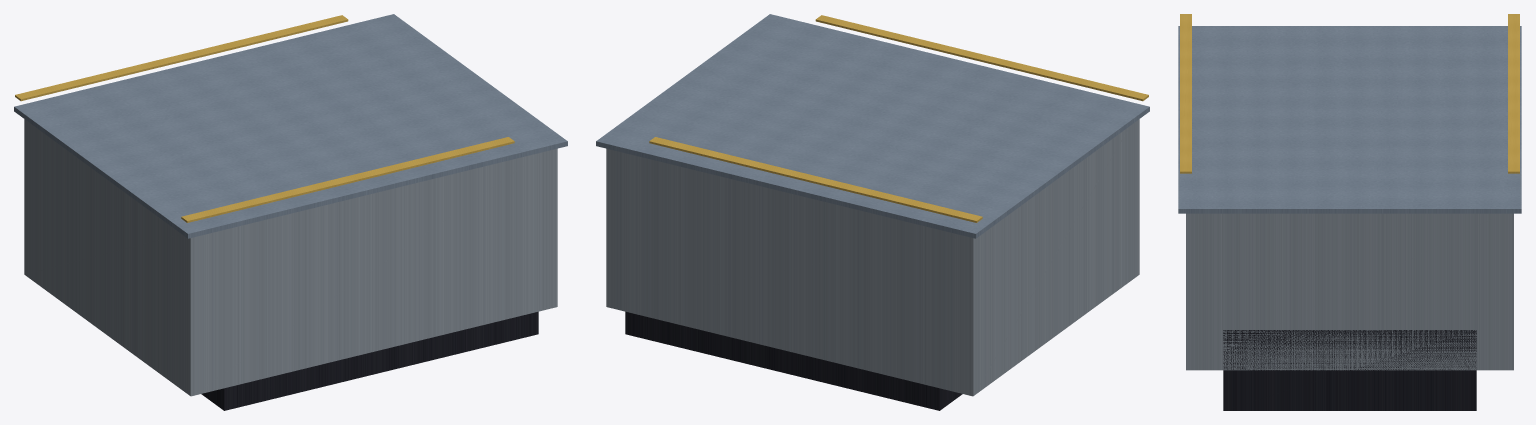
Rendered from 249_L117_SFP_Cage2.obj.
3 renders of one model, left to right at view 1: azimuth 30°, elevation 25°; view 2: azimuth 150°, elevation 25°; view 3: azimuth 270°, elevation 25°, orthographic.
Visible parts, largest first — view 1: 000_SFP_Cage__PSMAT__SFP_Cage, 001_Steel_Polished__PSMAT__Steel_Polished, 002_Connector_Black__PSMAT__Connector_Black, 003_Gold_ENIG__PSMAT__Gold_ENIG, 004_Gold_ENIG__PSMAT__Gold_ENIG; view 2: 000_SFP_Cage__PSMAT__SFP_Cage, 001_Steel_Polished__PSMAT__Steel_Polished, 002_Connector_Black__PSMAT__Connector_Black, 003_Gold_ENIG__PSMAT__Gold_ENIG, 004_Gold_ENIG__PSMAT__Gold_ENIG; view 3: 001_Steel_Polished__PSMAT__Steel_Polished, 000_SFP_Cage__PSMAT__SFP_Cage, 002_Connector_Black__PSMAT__Connector_Black, 003_Gold_ENIG__PSMAT__Gold_ENIG, 004_Gold_ENIG__PSMAT__Gold_ENIG.
Boxes of the visible parts, x1,y1,x2,y2 form: 000_SFP_Cage__PSMAT__SFP_Cage: [24, 119, 557, 396]; 001_Steel_Polished__PSMAT__Steel_Polished: [14, 14, 567, 238]; 002_Connector_Black__PSMAT__Connector_Black: [201, 311, 538, 410]; 003_Gold_ENIG__PSMAT__Gold_ENIG: [15, 15, 348, 101]; 004_Gold_ENIG__PSMAT__Gold_ENIG: [181, 137, 514, 222]; 000_SFP_Cage__PSMAT__SFP_Cage: [606, 119, 1139, 396]; 001_Steel_Polished__PSMAT__Steel_Polished: [596, 14, 1149, 238]; 002_Connector_Black__PSMAT__Connector_Black: [625, 311, 962, 410]; 003_Gold_ENIG__PSMAT__Gold_ENIG: [649, 137, 982, 222]; 004_Gold_ENIG__PSMAT__Gold_ENIG: [815, 15, 1148, 101]; 001_Steel_Polished__PSMAT__Steel_Polished: [1178, 26, 1521, 213]; 000_SFP_Cage__PSMAT__SFP_Cage: [1186, 213, 1513, 370]; 002_Connector_Black__PSMAT__Connector_Black: [1223, 330, 1476, 410]; 003_Gold_ENIG__PSMAT__Gold_ENIG: [1508, 14, 1519, 173]; 004_Gold_ENIG__PSMAT__Gold_ENIG: [1180, 14, 1191, 173].
Bounding box in the file's own units: 0.029 × 0.0161 × 0.023.
4 materials, 4 textured.
